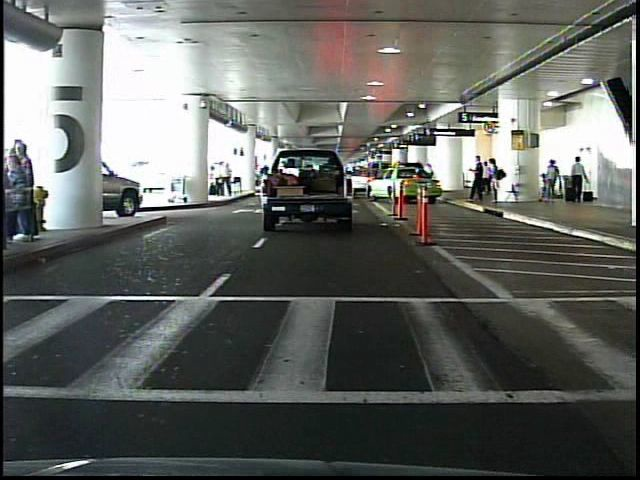person: (470, 154, 487, 206), (489, 157, 505, 206), (483, 159, 491, 198)
